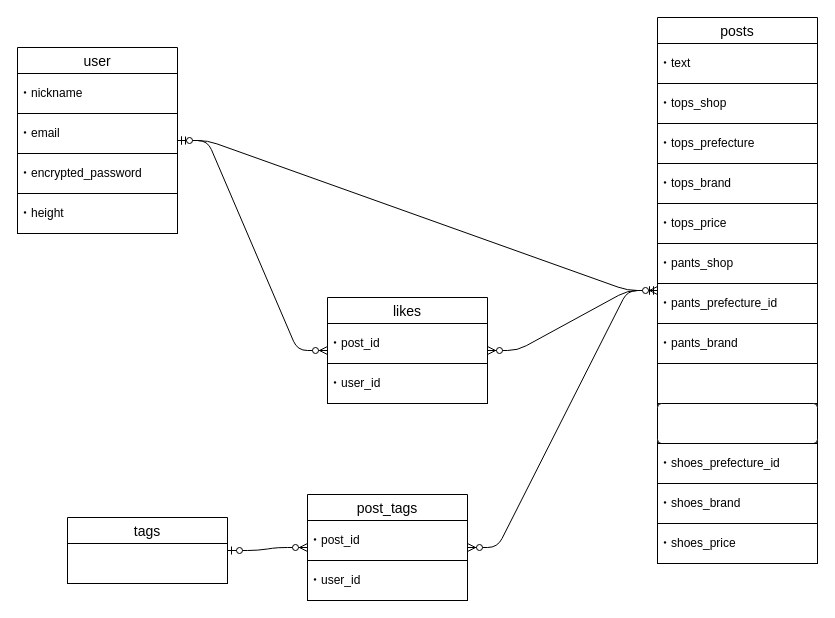
This 835x618 diagram has some shape labels left out. The centre of each missing label's shape, as x and y in pixels:
"・pants_price" belongs at [737,383].
"・shoes_shop" belongs at [737,423].
"・tag_name" belongs at [147,563].
